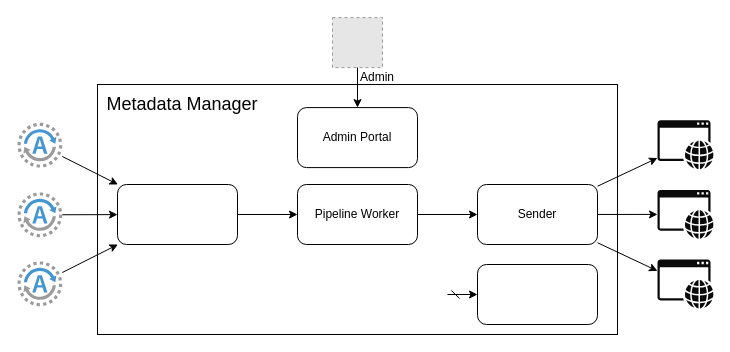
Image size: 730x352. Some labels were removed from this diagram. Grey dashed boxes stand in for pictures. Here are the shapes that lost their labels. From the top down, the centre of each, then its label:
(x=177, y=214): Orchestrator
(x=537, y=294): Statistics Recorder
